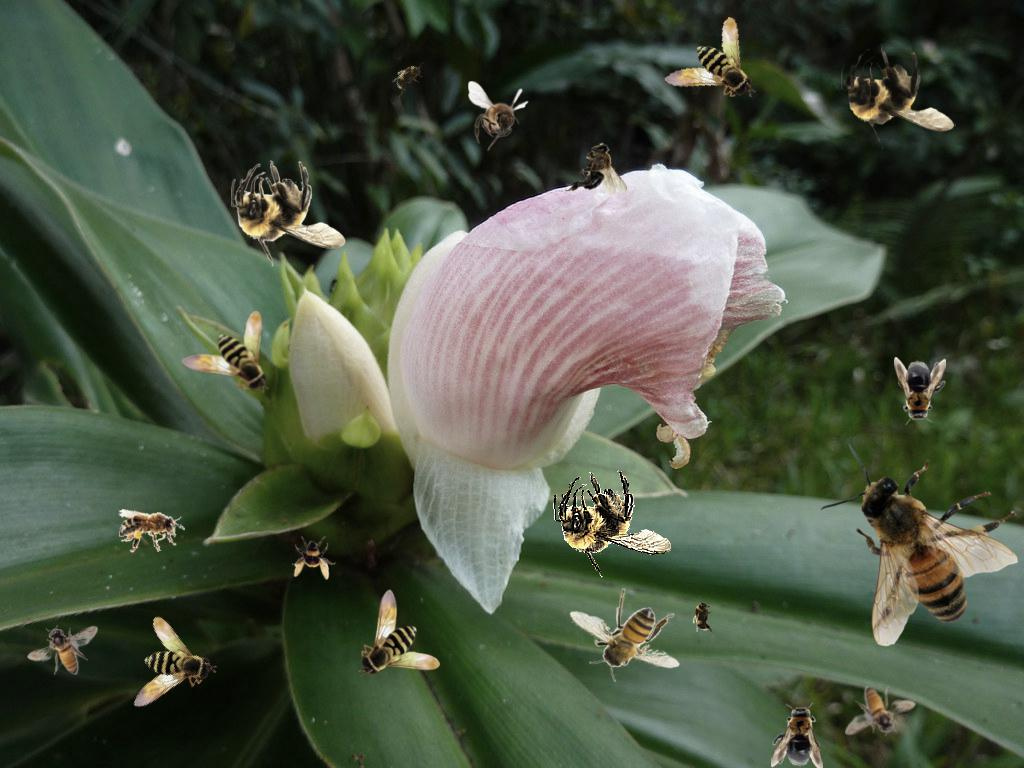Bee: (819, 443, 1018, 647), (99, 609, 221, 729), (550, 465, 675, 582), (841, 44, 956, 151), (231, 160, 346, 267), (569, 588, 680, 682), (655, 14, 757, 112), (181, 311, 269, 393), (358, 589, 440, 677), (468, 81, 529, 151), (770, 701, 826, 768), (117, 504, 187, 555), (27, 625, 98, 675), (845, 686, 916, 736), (894, 357, 946, 425), (565, 142, 627, 195), (292, 536, 336, 580), (386, 56, 432, 98), (692, 596, 714, 636)
